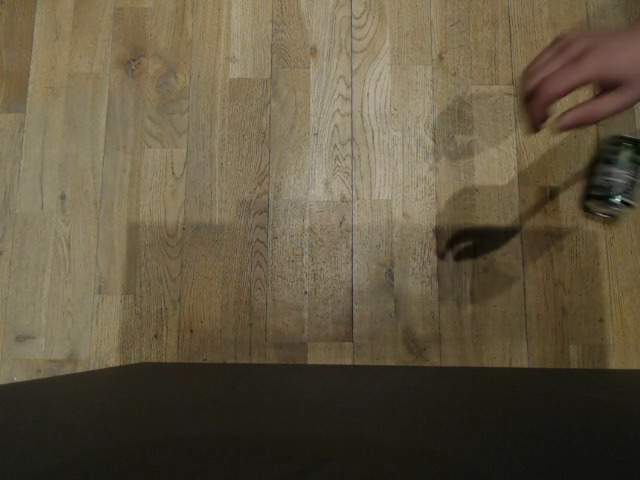beer: (582, 130, 640, 222)
